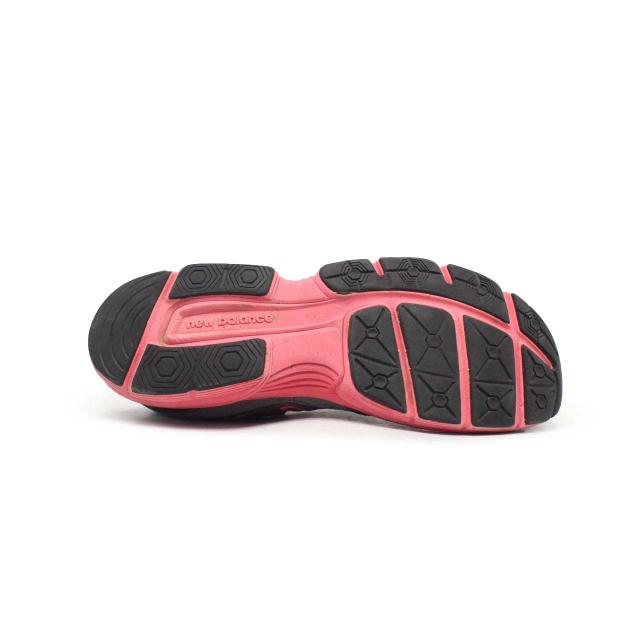outersole: (89, 259, 564, 432)
